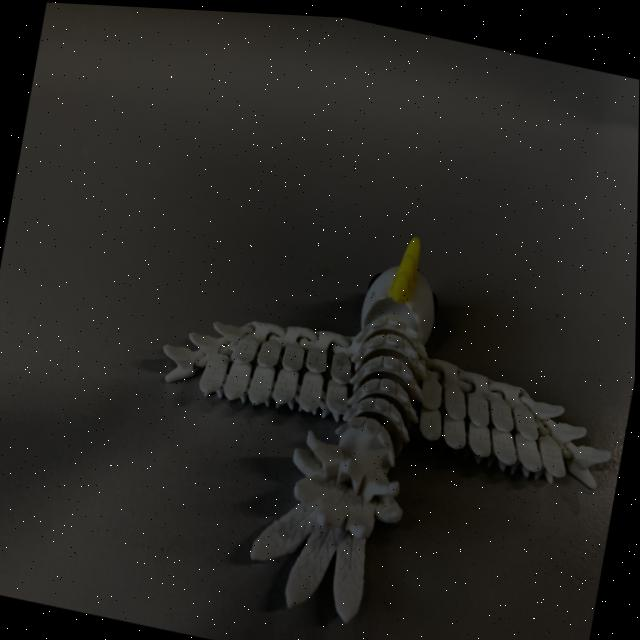cockatoo: (126, 188, 625, 640)
